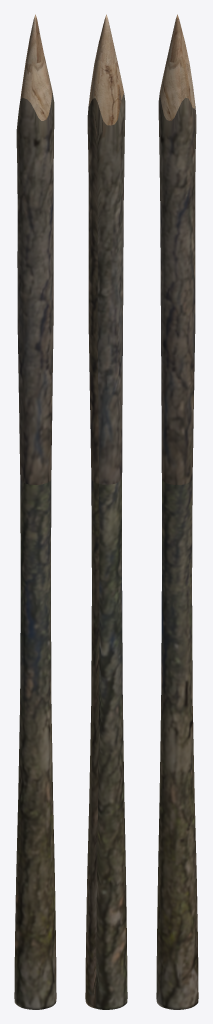
Rendered from Lance.fbx.
The picture shows the model from 3 angles, left to right: view 1: azimuth 30°, elevation 25°; view 2: azimuth 150°, elevation 25°; view 3: azimuth 330°, elevation 25°; orthographic projection.
Visible parts, largest first — view 1: Lance; view 2: Lance; view 3: Lance.
Boxes of the visible parts, bbox=[...] form: Lance: bbox=[14, 14, 56, 1009]; Lance: bbox=[85, 14, 127, 1009]; Lance: bbox=[156, 14, 198, 1009].
Bounding box in the file's own units: 33.99 × 888 × 33.99.
Materials: 1 (1 with a texture image).
